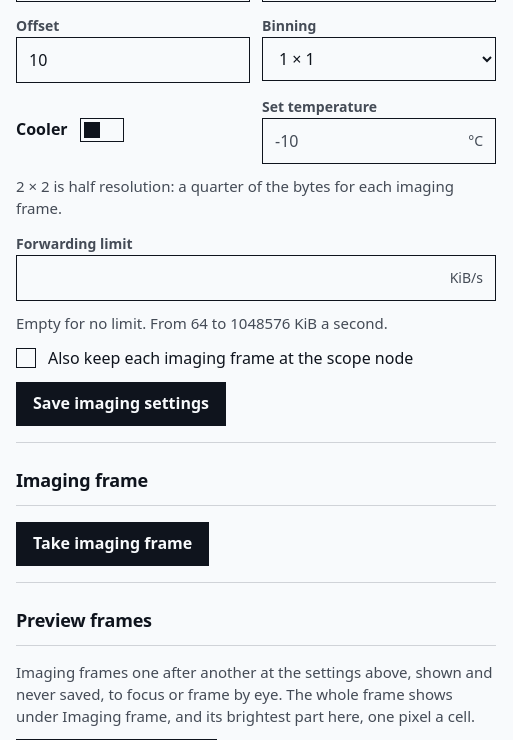
Scenario: ImagingPage's camera and settings › shows a refused settings save as an alert
This screenshot has width=513, height=740.
(page scrolled)
Click the button "Save imaging settings" at (121, 404), box 16,382 -> 226,426
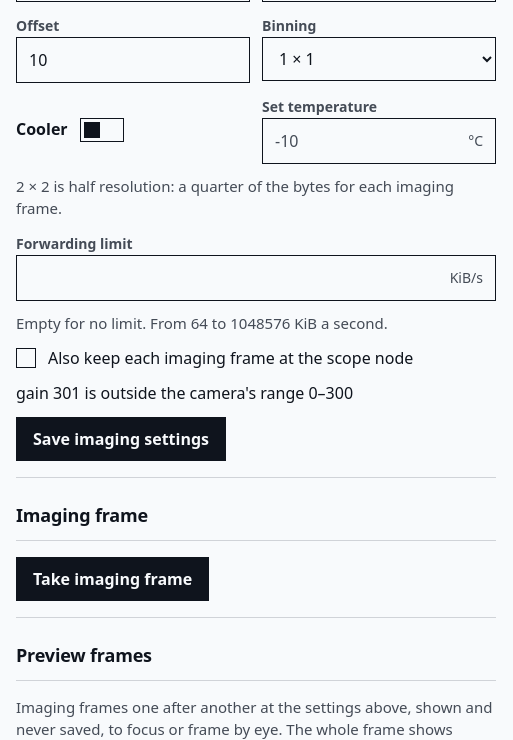
Expected: the message reads "gain 301 is outside the camera's range 0–300", 16,382 -> 353,404
